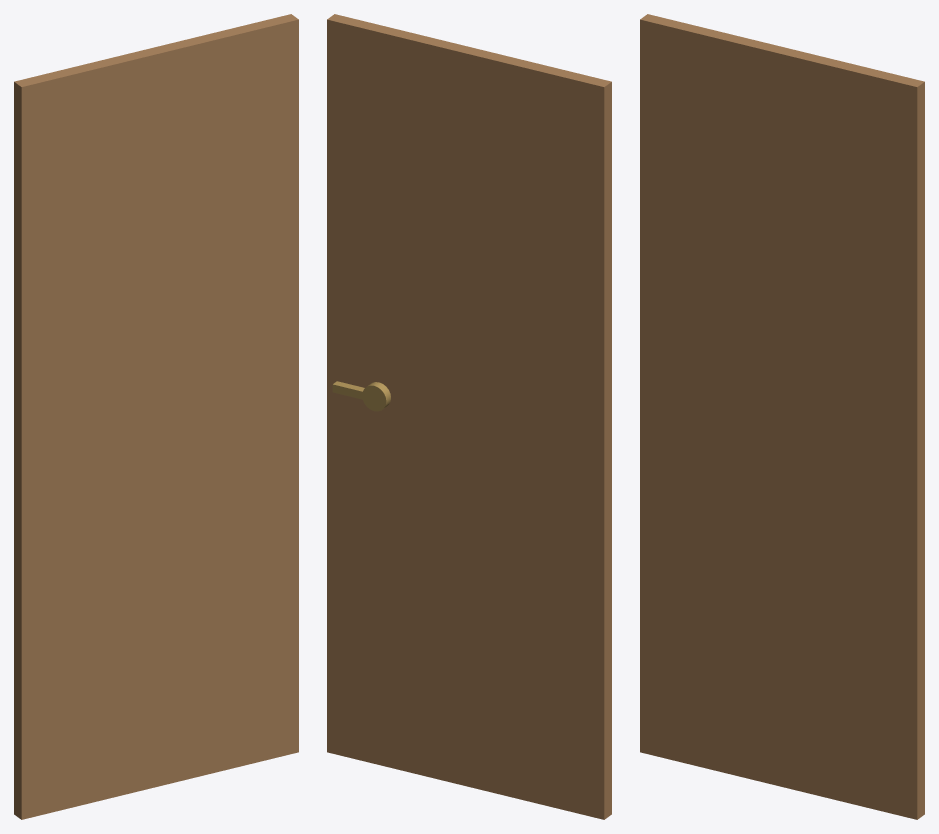
File: drzwi.glb
3 renders of one model, left to right at view 1: azimuth 30°, elevation 25°; view 2: azimuth 150°, elevation 25°; view 3: azimuth 330°, elevation 25°, orthographic.
Parts seen in each view (by area): view 1: Skrzydlo; view 2: Skrzydlo, Klamka; view 3: Skrzydlo.
Boxes of the visible parts, <box> form: Skrzydlo: <box>14,14,298,819</box>; Skrzydlo: <box>327,14,611,819</box>; Klamka: <box>332,381,390,411</box>; Skrzydlo: <box>640,14,924,819</box>.
Size of the model in its own units: 0.8 by 2.02 by 0.062.
